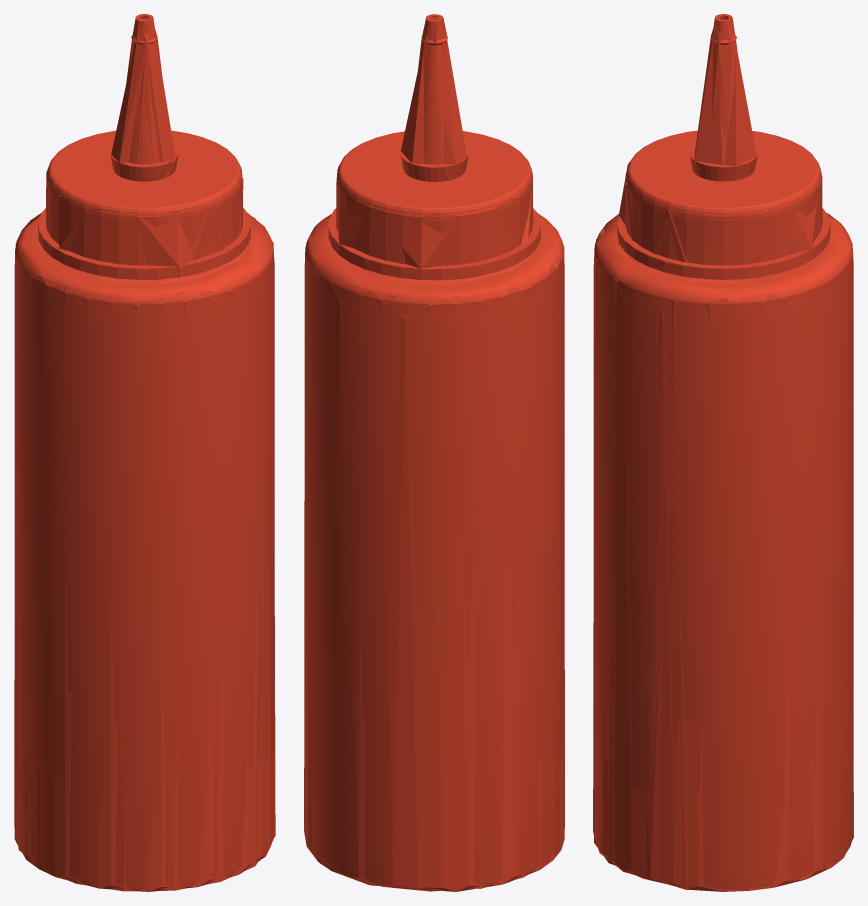
The model's file is imp-ketchup.glb.
3 views of the same model, side by side, from view 1: azimuth 30°, elevation 25°; view 2: azimuth 150°, elevation 25°; view 3: azimuth 270°, elevation 25° (orthographic).
Visible parts, largest first — view 1: ketchup_bottle_ketchup_0 (×3); view 2: ketchup_bottle_ketchup_0 (×3); view 3: ketchup_bottle_ketchup_0 (×3).
Boxes of the visible parts, left/top/right/bottom form: ketchup_bottle_ketchup_0 (×3): left=14, top=14, right=275, bottom=891; ketchup_bottle_ketchup_0 (×3): left=304, top=14, right=564, bottom=891; ketchup_bottle_ketchup_0 (×3): left=593, top=14, right=853, bottom=891.
Size of the model in its own units: 0.0577 by 0.2 by 0.0577.
